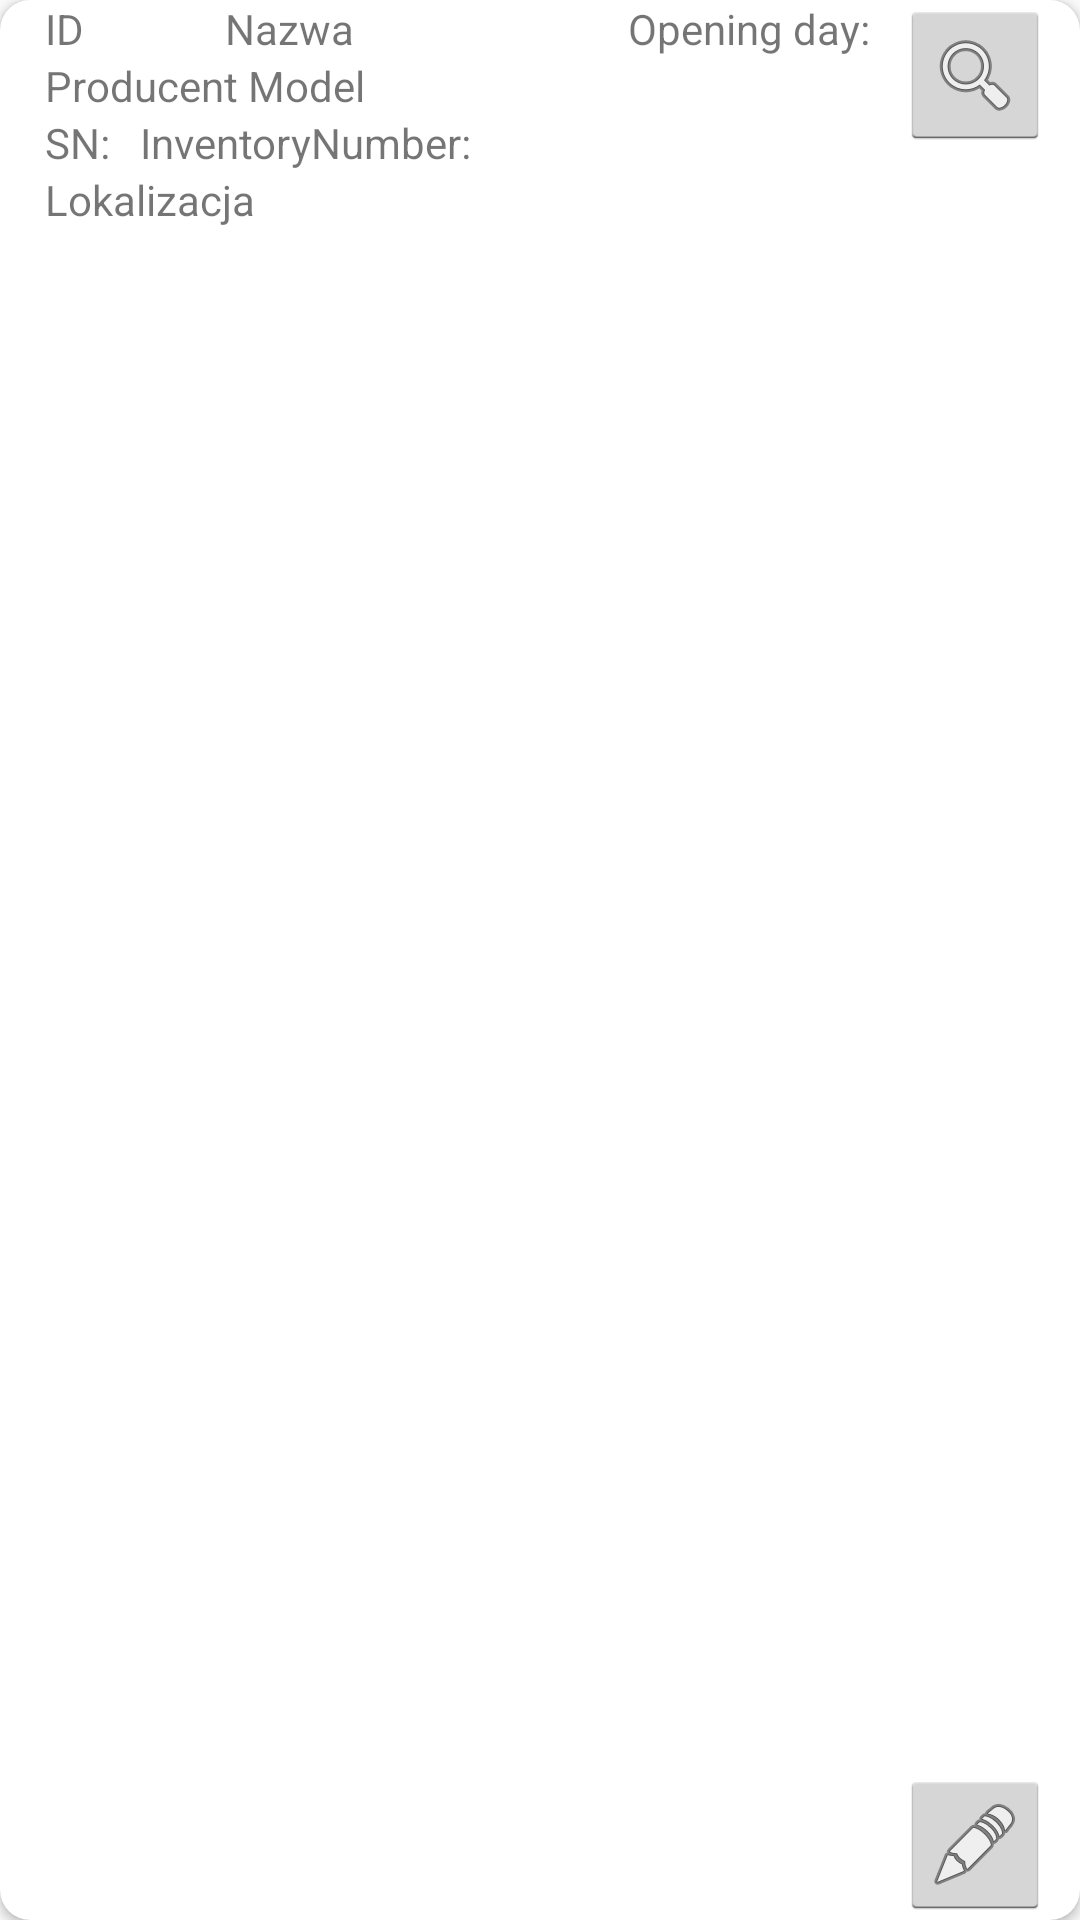

Screen size 1080 x 1920. Icon name, then its box in pixels as (x1, y1, x2, y2):
edit: (912, 1783, 1038, 1909)
search: (912, 13, 1038, 139)
